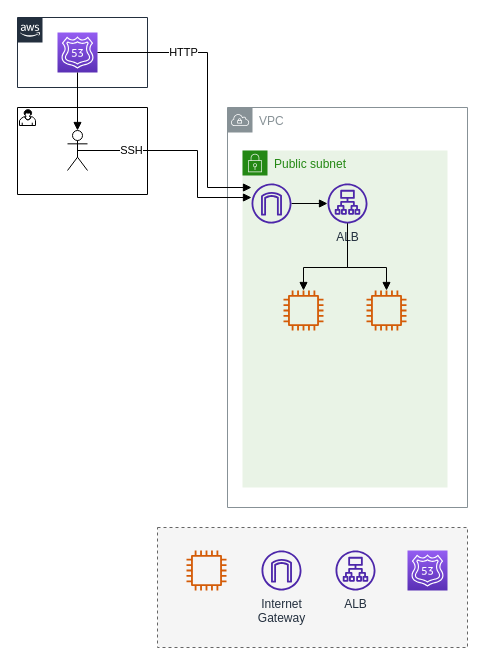
Image size: 485x665. Some labels were removed from this diagram. Here are the shapes that lost their labels. From the top down, the box of each, then its label:
(186, 550, 226, 590): EC2
(406, 550, 448, 590): Route 53
